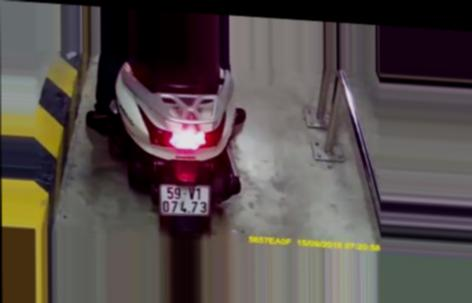License_Plate: (154, 178, 214, 221)
